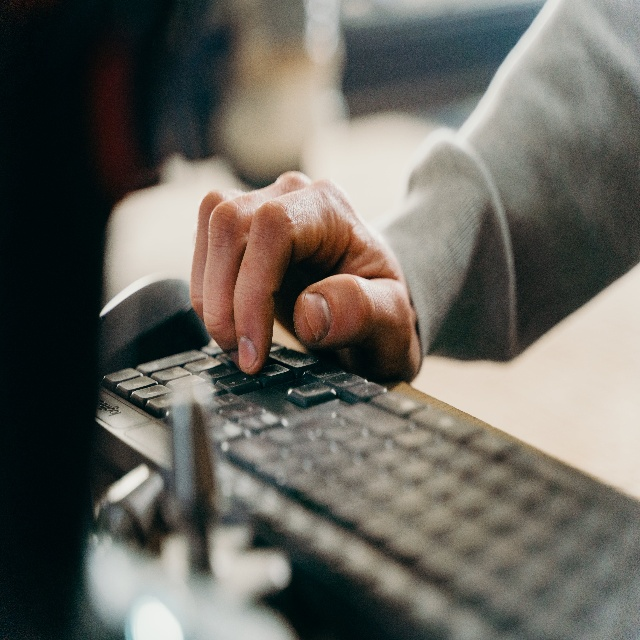Sin_guantes: (185, 173, 425, 388)
